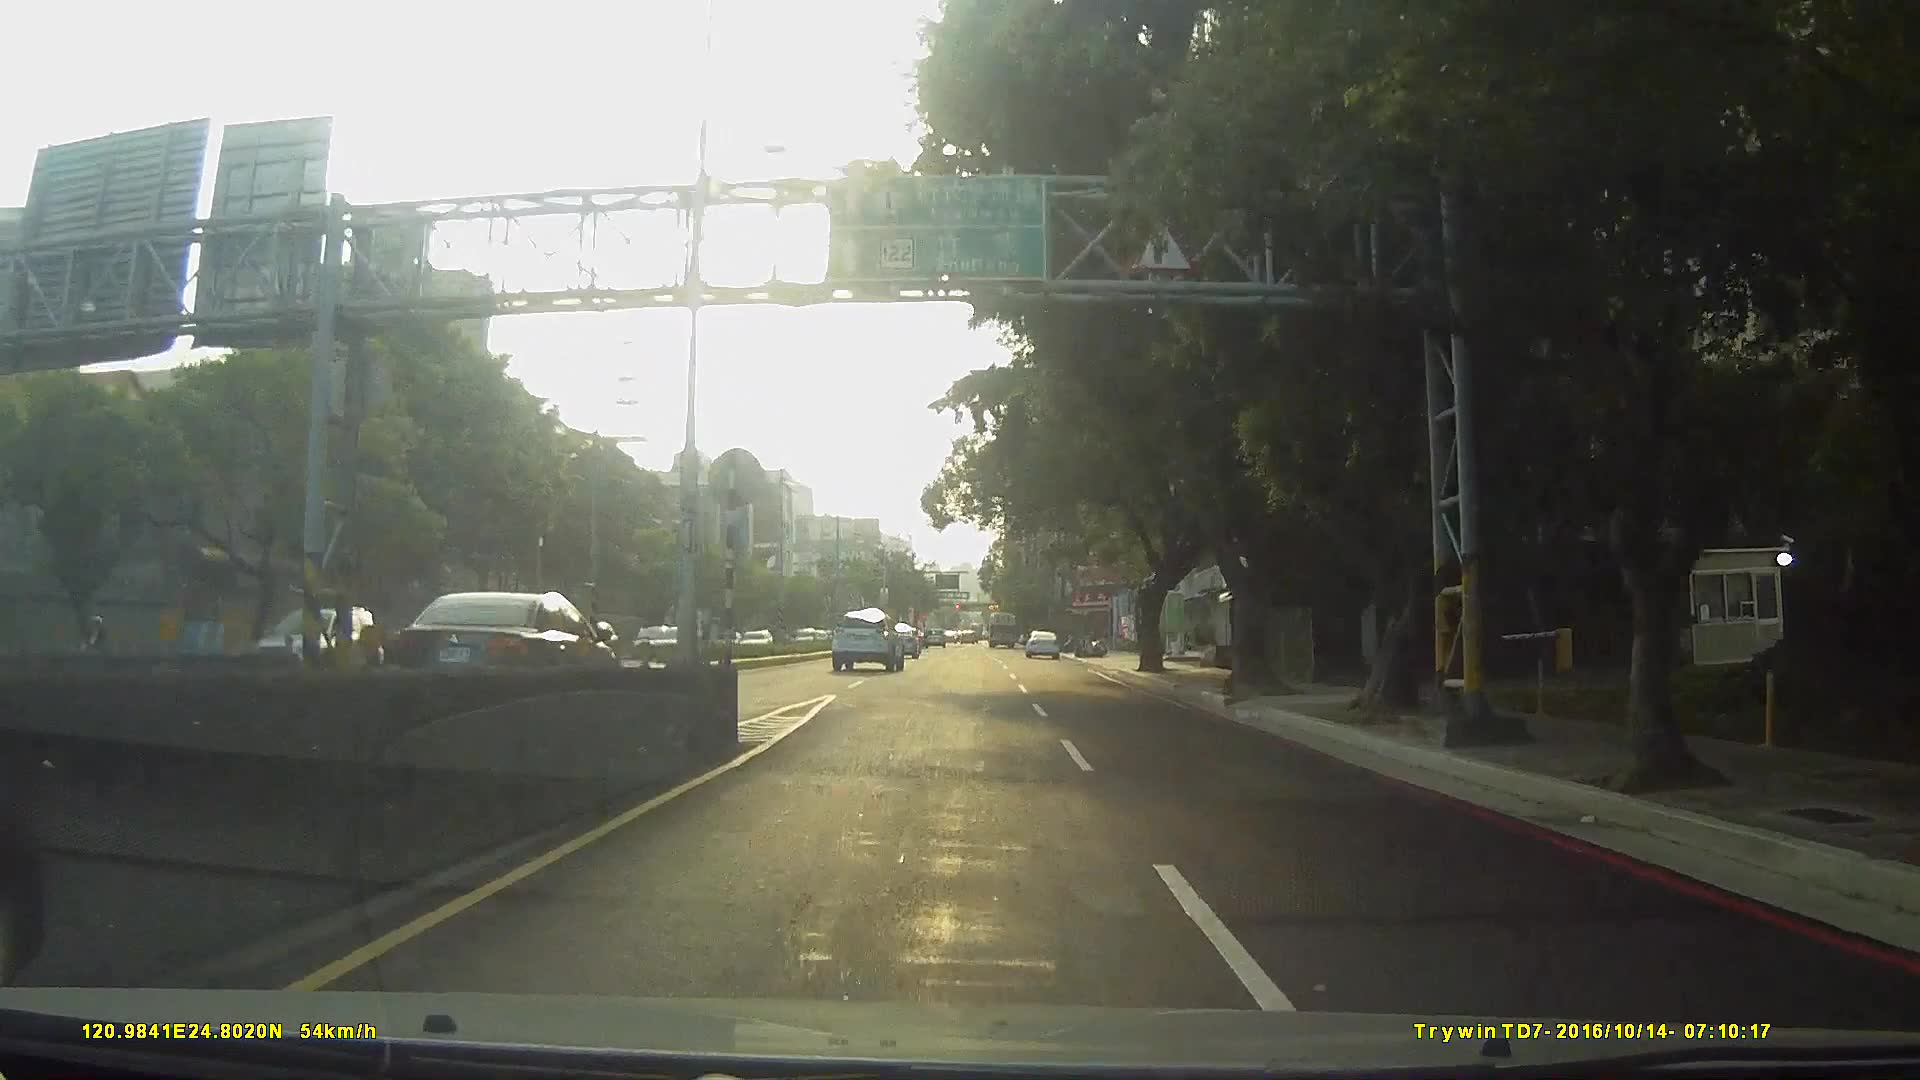vehicle: (385, 588, 622, 700), (829, 608, 905, 673), (882, 626, 920, 659), (986, 611, 1018, 649), (1022, 626, 1060, 657)
